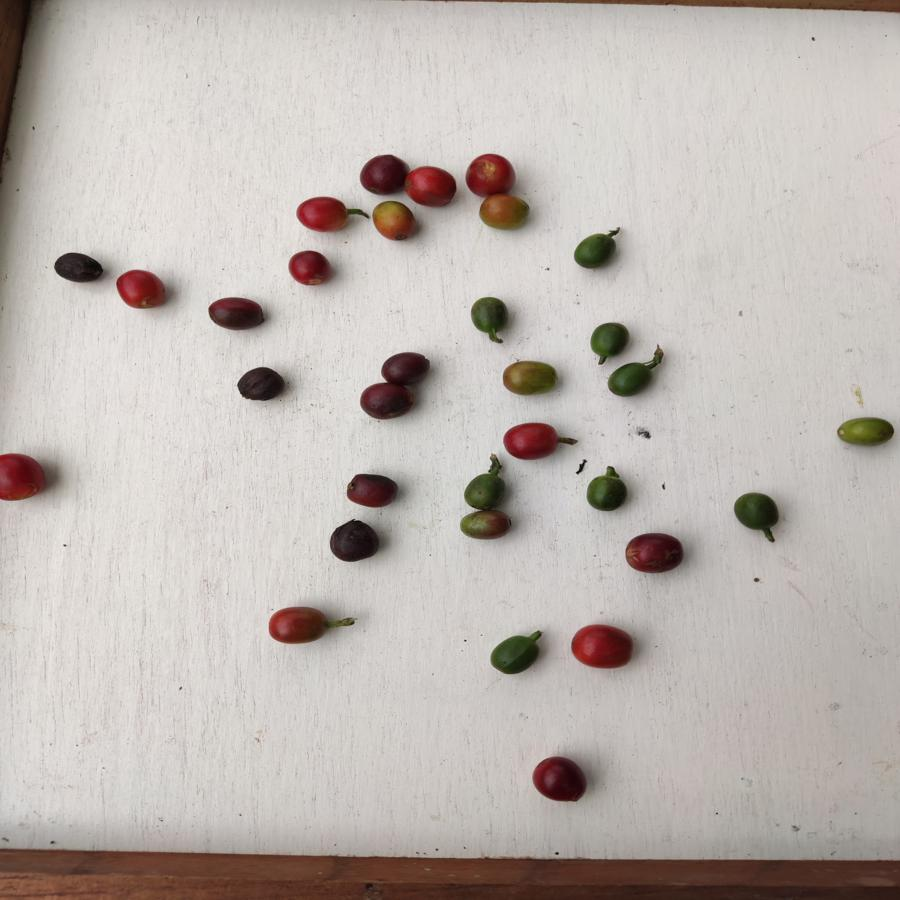Inmaduro: (570, 234, 627, 275), (490, 633, 542, 677), (729, 490, 783, 532), (585, 471, 631, 512), (462, 471, 509, 510), (604, 361, 653, 397), (586, 321, 632, 357), (468, 295, 511, 332)
Maduro: (567, 623, 634, 668), (111, 266, 170, 312), (1, 449, 49, 502), (268, 606, 330, 647), (504, 422, 562, 463), (295, 195, 350, 234), (408, 166, 457, 209), (465, 154, 515, 195), (286, 246, 331, 289)
Pinton: (835, 411, 896, 451), (500, 358, 560, 395), (477, 194, 535, 229), (372, 199, 416, 244), (457, 512, 519, 541)
Sobremaduro: (532, 755, 594, 809), (622, 533, 688, 575), (205, 297, 271, 333), (329, 522, 383, 563), (356, 154, 407, 197), (359, 383, 414, 420), (346, 472, 399, 509), (378, 350, 435, 384), (52, 251, 107, 286), (236, 367, 287, 403)
